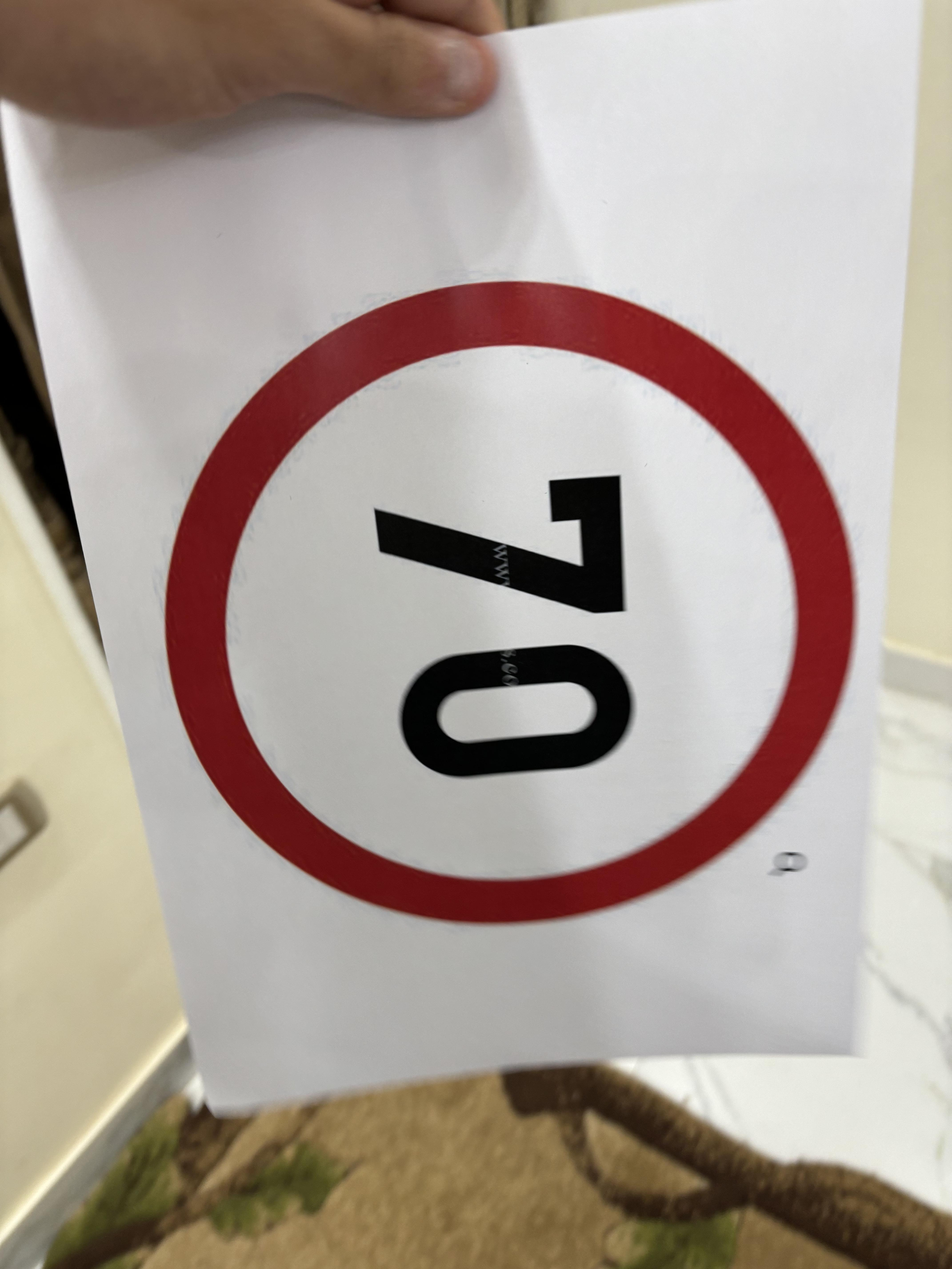70-Speed: (154, 271, 865, 941)
